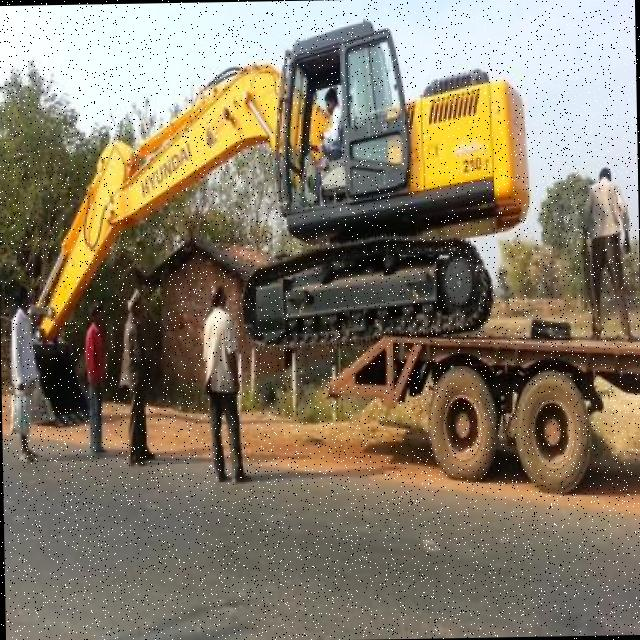Excavator: (14, 12, 536, 432)
